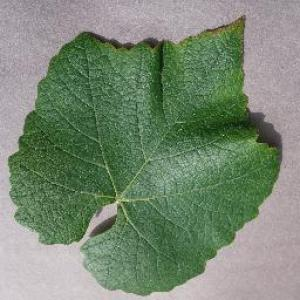Folha: (7, 14, 281, 297)
